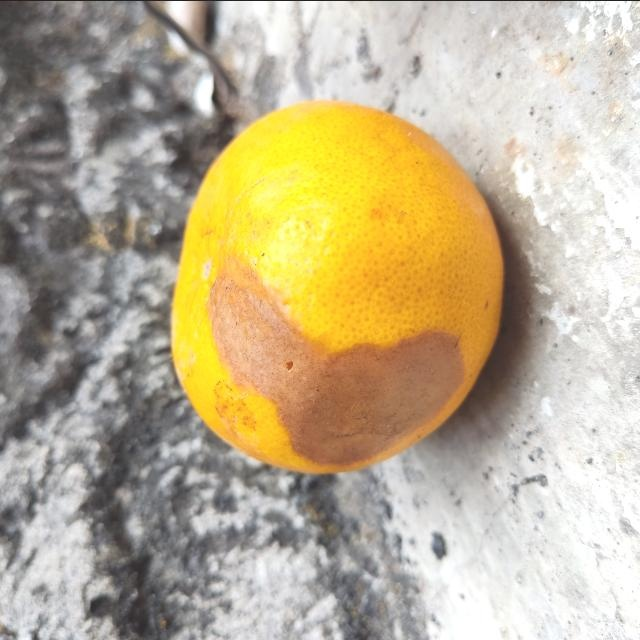agrume: (168, 98, 504, 474)
